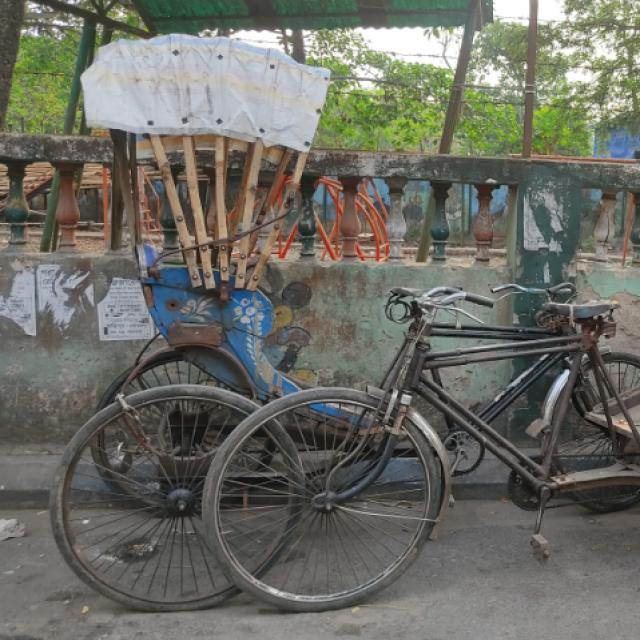rickshaw: (48, 34, 640, 609)
